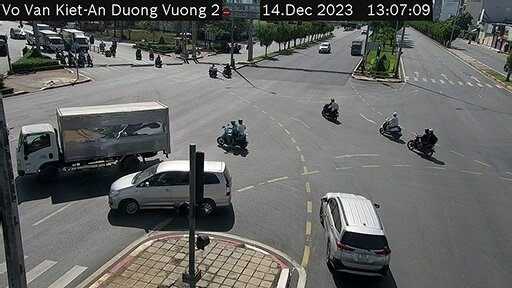car: (311, 186, 384, 271), (103, 165, 233, 210), (315, 40, 333, 59)
motorbike: (218, 116, 255, 153), (416, 127, 450, 155), (380, 114, 403, 142), (322, 98, 344, 124)
truck: (17, 104, 177, 170), (349, 37, 364, 60)
